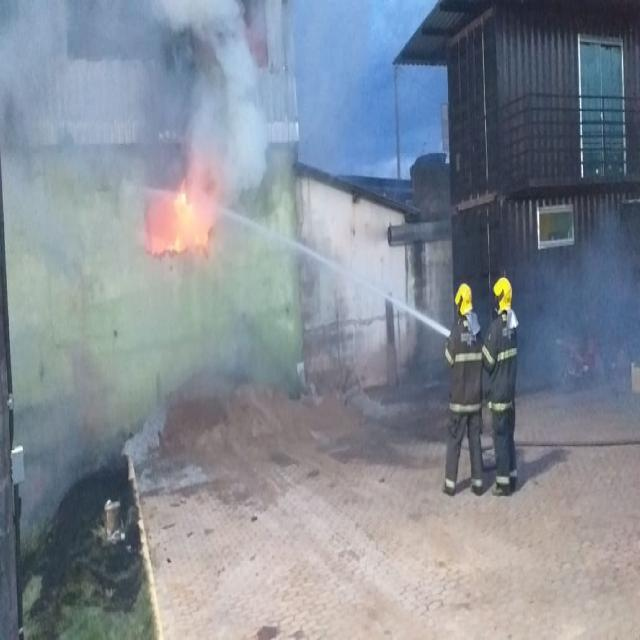Fire: (139, 159, 223, 258)
Smoke: (0, 0, 135, 568), (138, 270, 304, 438), (139, 4, 299, 152), (225, 164, 298, 258)
